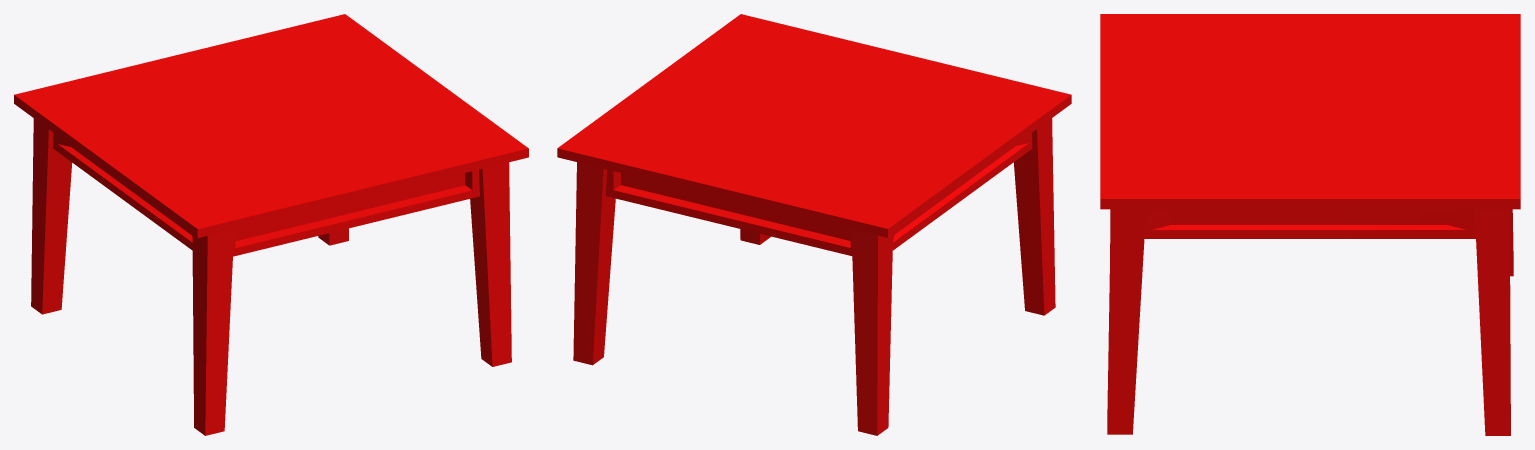
File: tabletexture.obj
3 renders of one model, left to right at view 1: azimuth 30°, elevation 25°; view 2: azimuth 150°, elevation 25°; view 3: azimuth 270°, elevation 25°, orthographic. The views are drawn at different scales.
Visible parts, largest first — view 1: table; view 2: table; view 3: table.
Part boxes in pixels (x1,y1,x2,y2): table: [14, 14, 528, 435]; table: [557, 14, 1071, 435]; table: [1100, 14, 1520, 435].
Size of the model in its own units: 147 by 90.37 by 141.
